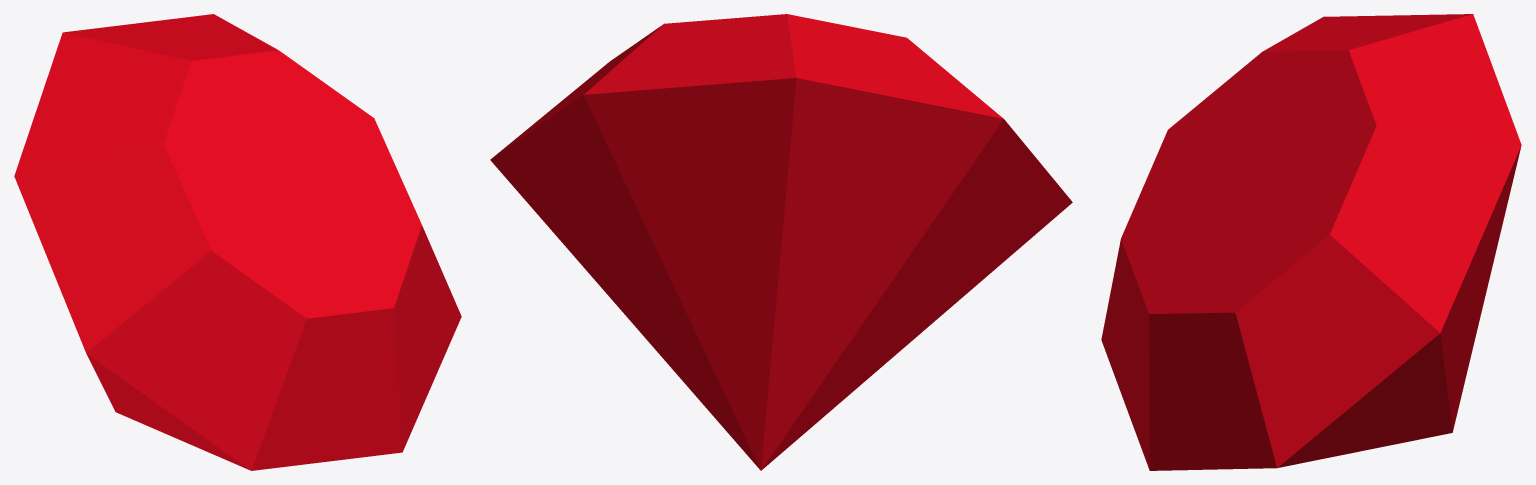
The model's file is ruby.glb.
3 renders of one model, left to right at view 1: azimuth 30°, elevation 25°; view 2: azimuth 150°, elevation 25°; view 3: azimuth 270°, elevation 25°, orthographic. The views are drawn at different scales.
Visible parts, largest first — view 1: Cone.001; view 2: Cone.001; view 3: Cone.001.
Part boxes in pixels (x1,y1,x2,y2): Cone.001: (14,14,461,470); Cone.001: (490,14,1072,470); Cone.001: (1101,14,1521,470).
Bounding box in the file's own units: 1.77 × 1.53 × 1.46.
